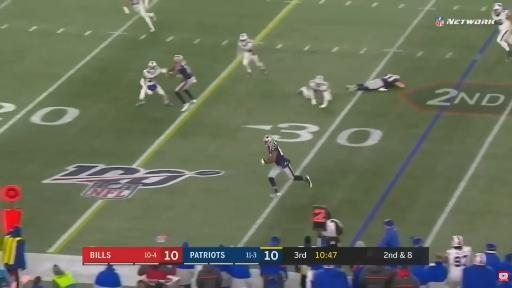Helmet: (474, 253, 486, 265), (452, 236, 463, 247), (493, 3, 503, 15), (264, 135, 273, 146), (148, 61, 157, 69), (240, 34, 248, 41), (316, 76, 323, 82)
Jersey: (446, 246, 471, 275), (143, 67, 167, 90), (268, 142, 289, 168), (365, 75, 399, 90), (492, 10, 511, 30), (176, 63, 193, 80), (381, 75, 399, 88), (310, 80, 328, 91), (238, 40, 253, 53), (131, 0, 141, 5)
Player: (261, 135, 312, 196), (137, 61, 172, 105), (169, 55, 196, 111), (446, 236, 471, 287), (238, 34, 265, 75), (492, 3, 511, 60), (123, 0, 156, 32), (299, 76, 331, 107), (347, 74, 405, 91)
